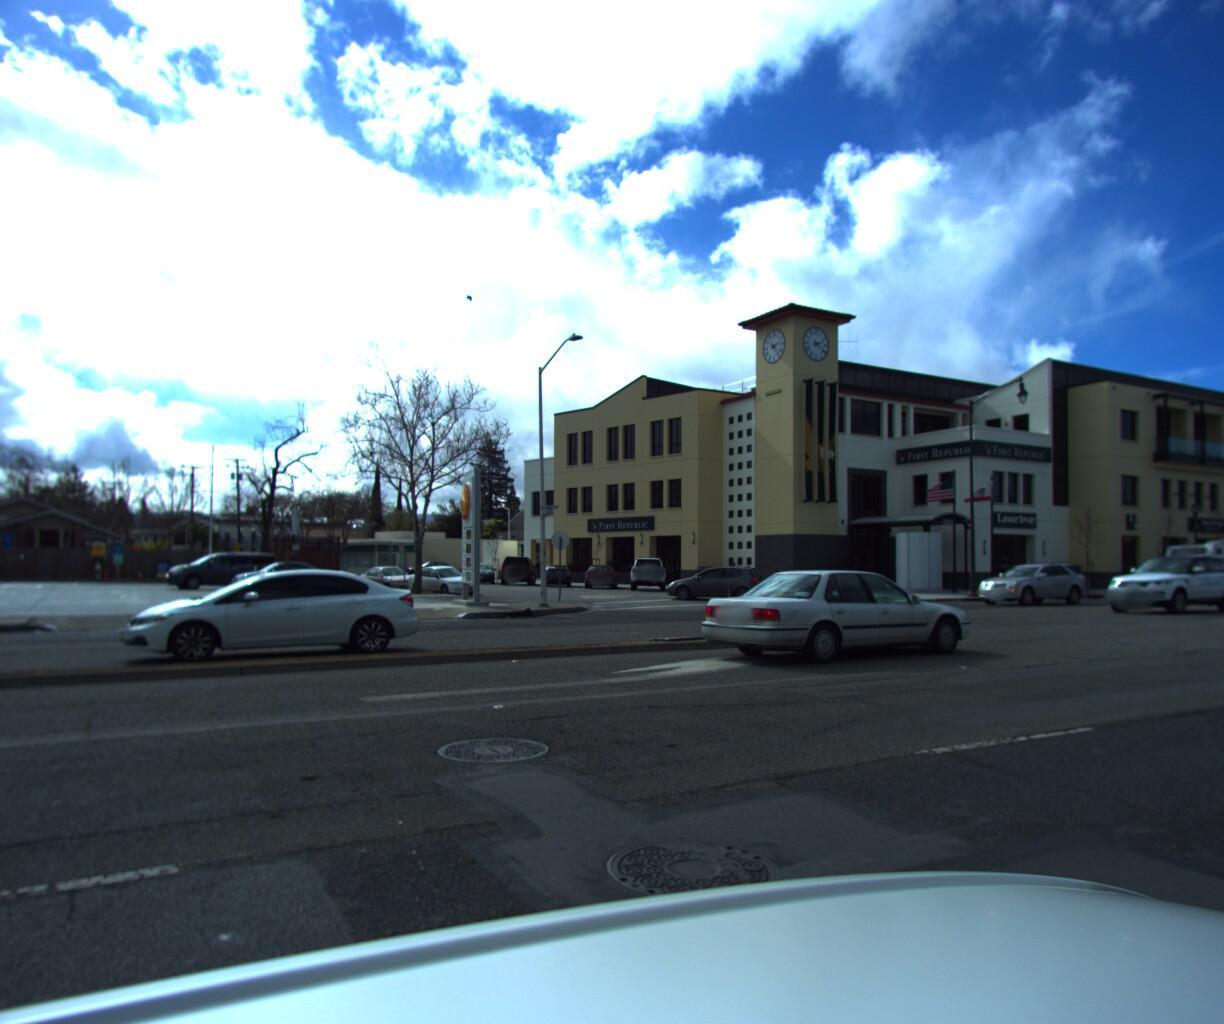car: (678, 571, 975, 678), (130, 575, 433, 677), (1099, 558, 1224, 621), (971, 562, 1087, 612), (162, 555, 281, 599), (663, 569, 771, 608), (230, 567, 345, 602), (406, 570, 489, 602), (356, 571, 430, 598), (631, 560, 667, 597), (500, 559, 537, 592), (583, 568, 619, 595), (540, 568, 574, 593), (466, 566, 503, 589)
other_vehicle: (1146, 539, 1224, 601)
